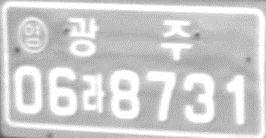0: (12, 64, 43, 115)
1: (220, 73, 252, 125)
3: (181, 71, 215, 123)
6: (47, 66, 78, 117)
7: (144, 70, 177, 122)
8: (108, 68, 140, 120)
광주_D: (67, 16, 193, 61)
라: (79, 72, 107, 114)
영: (15, 16, 50, 55)
